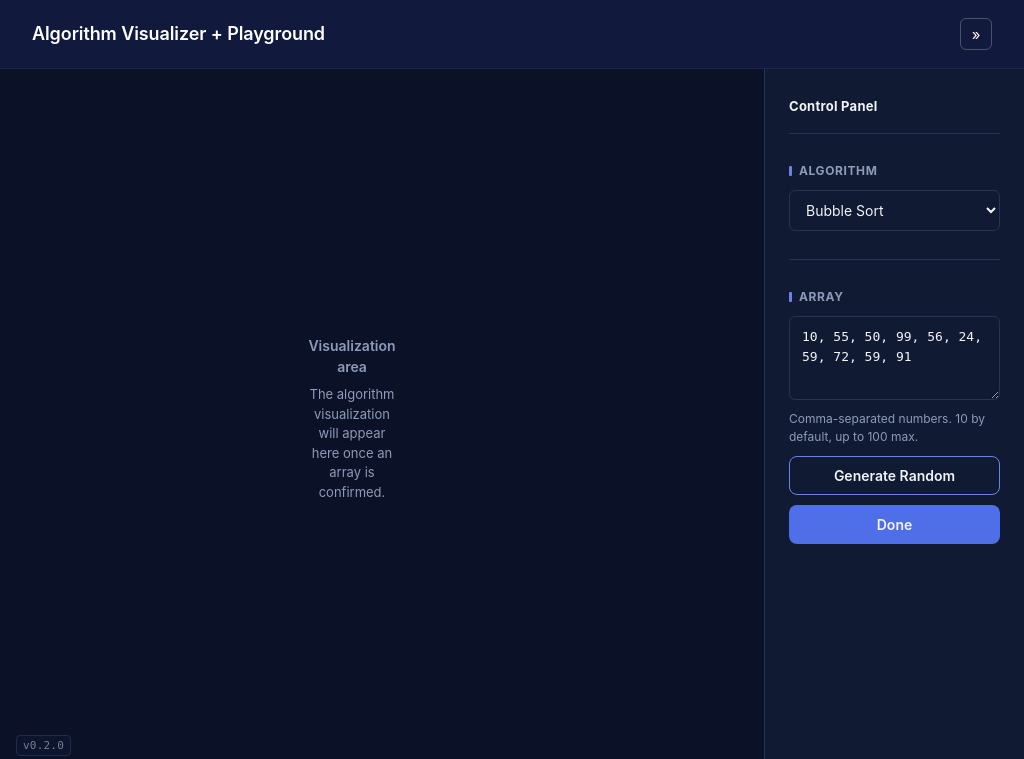
App — Code View placement › Code View is positioned via its own overlay container, not by CodeView itself
The width and height of the screenshot is (1024, 759).
Replace the text in the text box labelled "Array" with "8, 3, 5, 1": (894, 358) [789,316,1000,400]
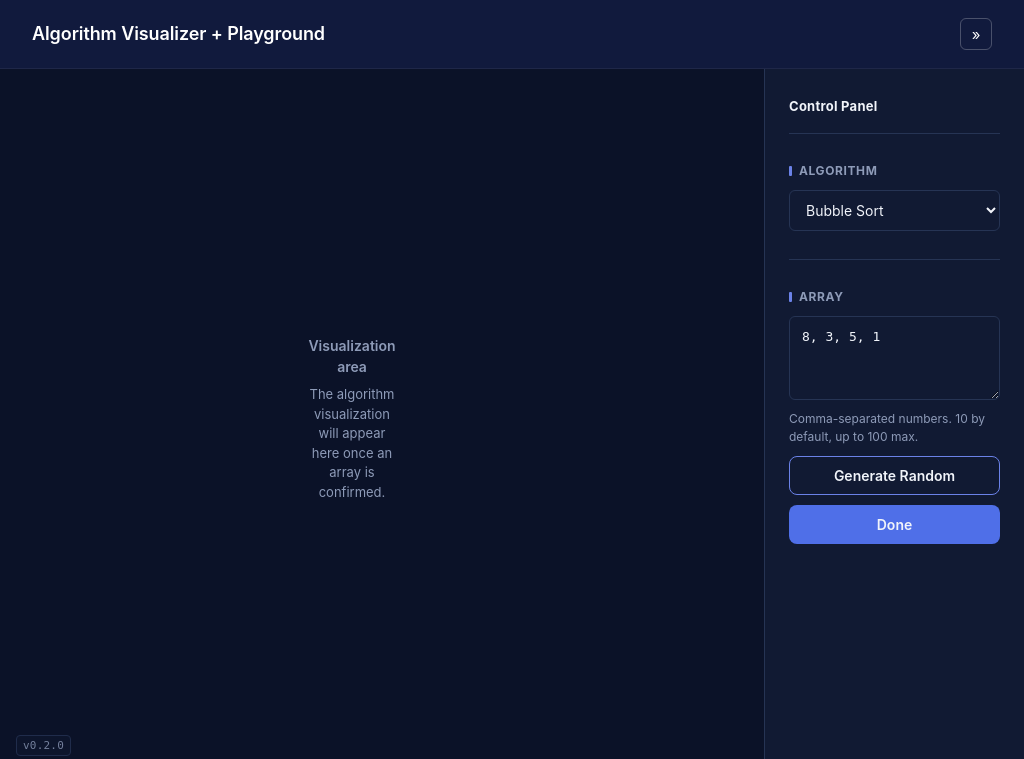
Click the button "Done": (894, 524) [789,505,1000,544]
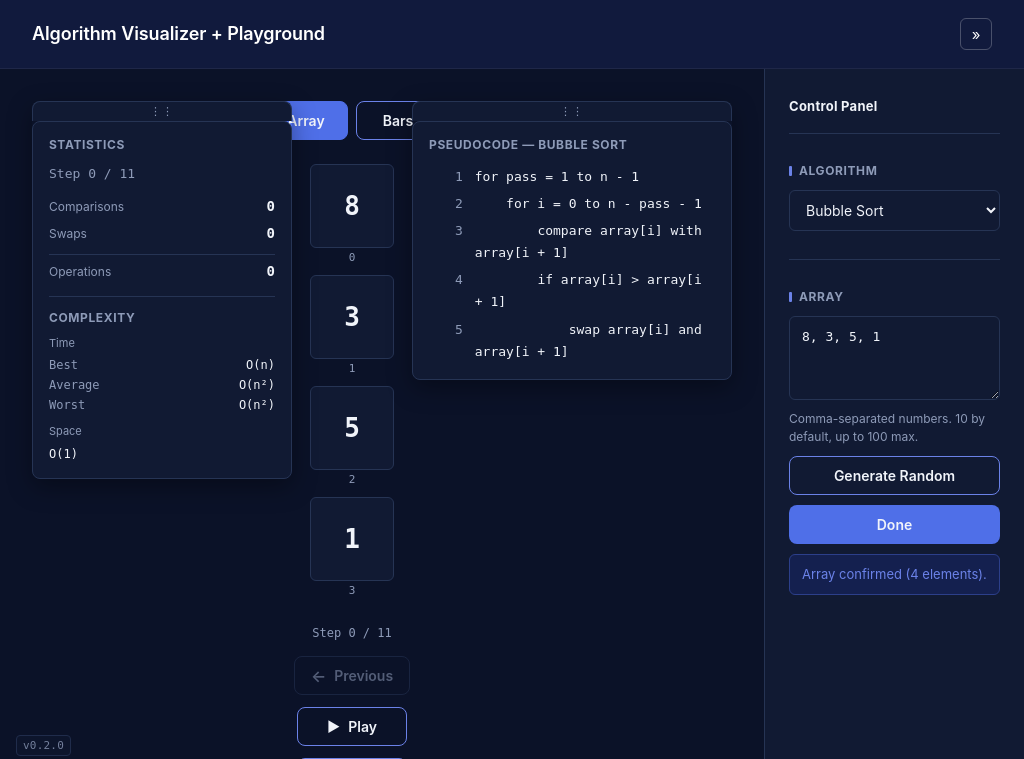
Expected: the element with class "code-view-overlay" is shown, [412,101,732,380]
Expected: the element with class "code-view" is shown, [412,121,732,380]
